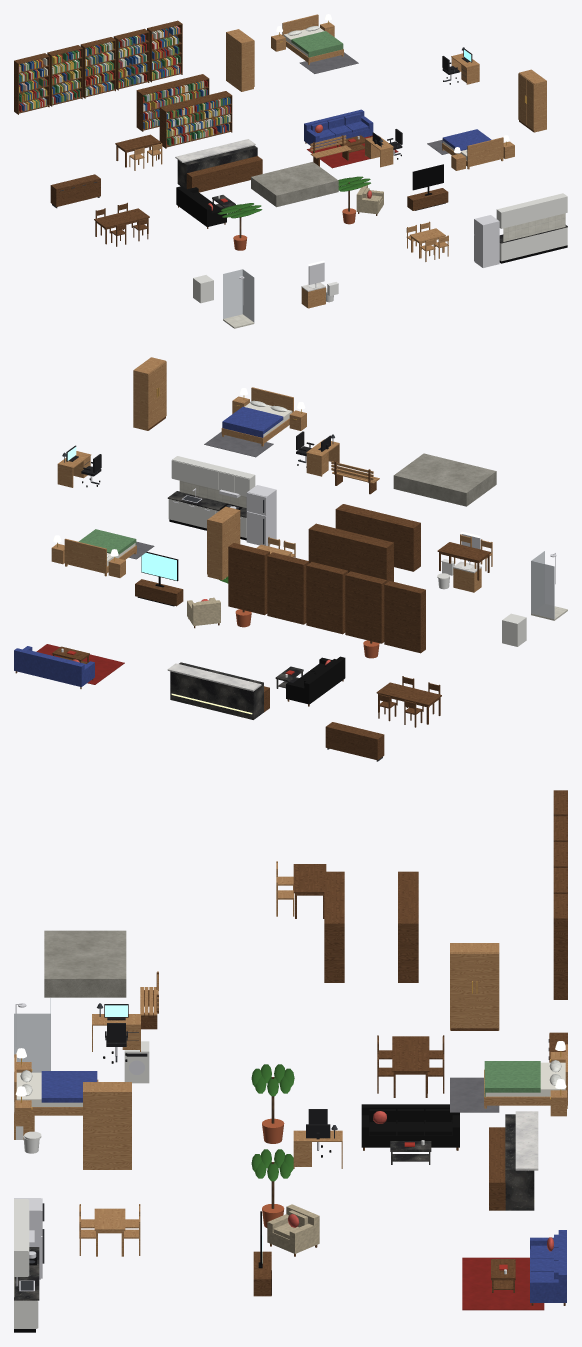
The model's file is i_desert_palace.gltf.
The picture shows the model from 3 angles, top to bottom: view 1: azimuth 30°, elevation 25°; view 2: azimuth 150°, elevation 25°; view 3: azimuth 270°, elevation 25°; orthographic projection. The views are drawn at different scales.
Visible parts, largest first — view 1: I_desert_palace; view 2: I_desert_palace; view 3: I_desert_palace.
Part boxes in pixels (x1,y1,x2,y2): I_desert_palace: [14, 14, 567, 328]; I_desert_palace: [14, 357, 567, 761]; I_desert_palace: [14, 790, 567, 1332].
Bounding box in the file's own units: 17.2 × 6.6 × 13.52.
38 materials, 15 textured.
